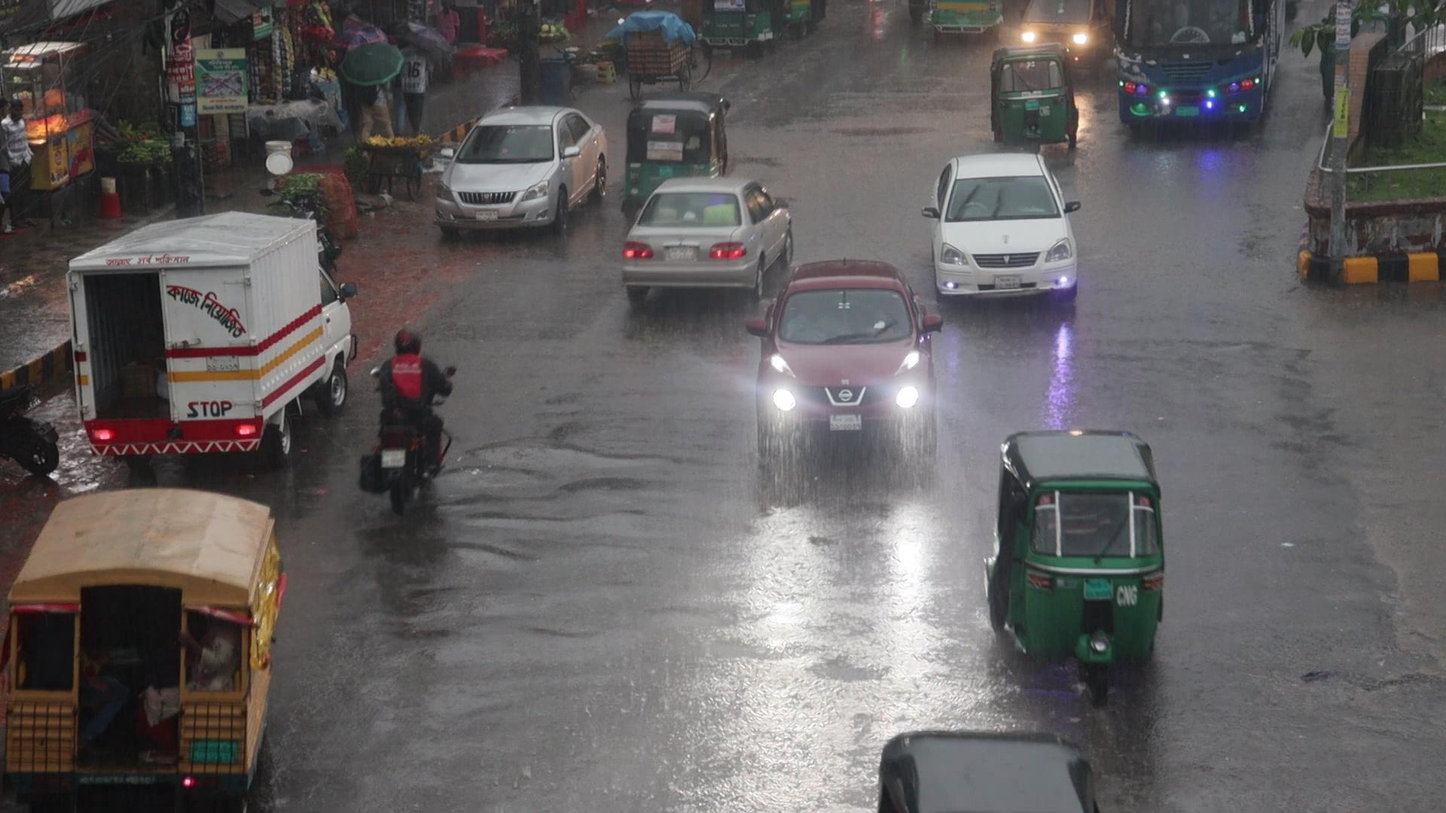Bike: (354, 325, 458, 520)
Car: (744, 254, 943, 472), (920, 149, 1083, 308), (618, 174, 795, 290)
Truck: (0, 483, 286, 813)
